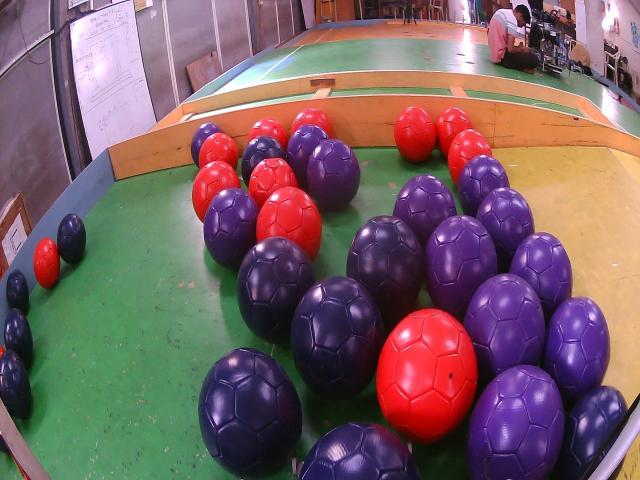jambhalya: (468, 365, 565, 480), (464, 273, 545, 385), (425, 215, 498, 318), (544, 297, 610, 402), (509, 232, 572, 320), (476, 187, 535, 271), (392, 175, 456, 248), (204, 188, 259, 270), (308, 138, 360, 210), (458, 155, 510, 216), (286, 125, 329, 188), (191, 122, 221, 167)
kaalyya: (198, 348, 302, 478), (290, 277, 384, 398), (346, 215, 422, 325), (238, 237, 315, 343), (552, 387, 628, 480), (299, 422, 420, 480), (0, 350, 32, 418), (241, 135, 285, 184), (4, 308, 32, 367), (58, 213, 86, 264), (6, 270, 29, 313)
